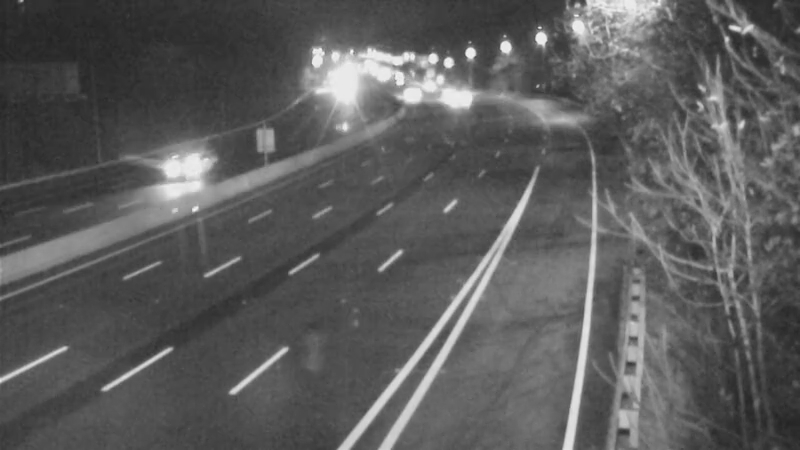vehicle: (142, 122, 222, 202), (406, 61, 456, 111), (383, 66, 433, 116), (429, 79, 479, 129), (316, 68, 366, 118)
